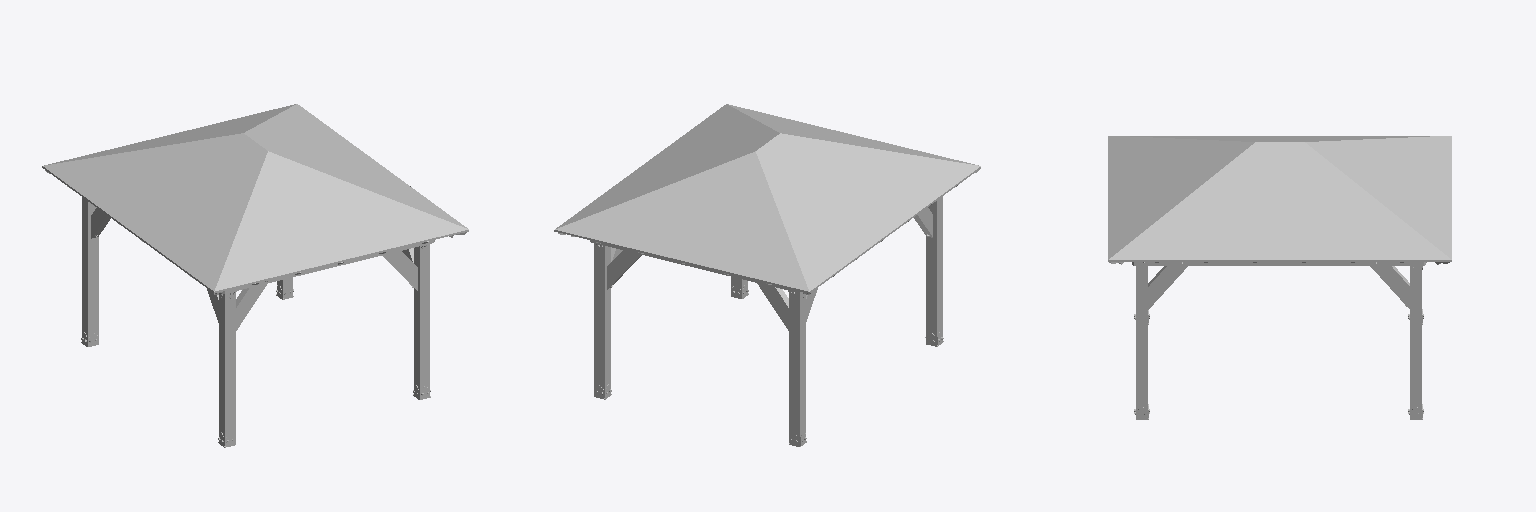
The model's file is saratoga-12x14-ogee.obj.
3 views of the same model, side by side, from view 1: azimuth 30°, elevation 25°; view 2: azimuth 150°, elevation 25°; view 3: azimuth 270°, elevation 25° (orthographic).
Parts seen in each view (by area): view 1: Mesh228 shingles roof Group1 Model, Mesh179 Group72 Component_92_4 Group1 Model, Mesh81 Group44 Component_92_2 Group1 Model, Mesh130 Group58 Component_92_3 Group1 Model, Mesh229 roof Group1 Model, Mesh121 Component_91_3 Component_92_2 Group1 Model, Mesh219 Component_91_7 Component_92_4 Group1 Model, Mesh77 Component_135_1 Group1 Model; view 2: Mesh228 shingles roof Group1 Model, Mesh130 Group58 Component_92_3 Group1 Model, Mesh1 Group3 Component_92_1 Group2 Group1 Model, Mesh179 Group72 Component_92_4 Group1 Model, Mesh229 roof Group1 Model, Mesh170 Component_91_5 Component_92_3 Group1 Model, Mesh41 Component_91_1 Component_92_1 Group2 Group1 Model; view 3: Mesh228 shingles roof Group1 Model, Mesh81 Group44 Component_92_2 Group1 Model, Mesh1 Group3 Component_92_1 Group2 Group1 Model, Mesh80 Component_134_2 Group1 Model, Mesh125 Component_91_4 Component_92_2 Group1 Model, Mesh45 Component_91_2 Component_92_1 Group2 Group1 Model, Mesh229 roof Group1 Model.
Part boxes in pixels (x1,y1,x2,y2): Mesh228 shingles roof Group1 Model: (43, 104, 468, 291); Mesh179 Group72 Component_92_4 Group1 Model: (219, 292, 235, 445); Mesh81 Group44 Component_92_2 Group1 Model: (414, 244, 429, 398); Mesh130 Group58 Component_92_3 Group1 Model: (82, 197, 98, 345); Mesh229 roof Group1 Model: (42, 166, 468, 293); Mesh121 Component_91_3 Component_92_2 Group1 Model: (382, 251, 417, 290); Mesh219 Component_91_7 Component_92_4 Group1 Model: (236, 284, 266, 330); Mesh77 Component_135_1 Group1 Model: (222, 240, 434, 293); Mesh228 shingles roof Group1 Model: (555, 104, 980, 291); Mesh130 Group58 Component_92_3 Group1 Model: (789, 292, 805, 445); Mesh1 Group3 Component_92_1 Group2 Group1 Model: (594, 243, 610, 397); Mesh179 Group72 Component_92_4 Group1 Model: (926, 196, 942, 345); Mesh229 roof Group1 Model: (554, 167, 980, 293); Mesh170 Component_91_5 Component_92_3 Group1 Model: (757, 283, 788, 330); Mesh41 Component_91_1 Component_92_1 Group2 Group1 Model: (607, 250, 641, 289); Mesh228 shingles roof Group1 Model: (1108, 136, 1451, 259); Mesh81 Group44 Component_92_2 Group1 Model: (1136, 266, 1147, 418); Mesh1 Group3 Component_92_1 Group2 Group1 Model: (1410, 266, 1421, 418); Mesh80 Component_134_2 Group1 Model: (1140, 262, 1410, 265); Mesh125 Component_91_4 Component_92_2 Group1 Model: (1148, 266, 1187, 309); Mesh45 Component_91_2 Component_92_1 Group2 Group1 Model: (1370, 266, 1409, 308); Mesh229 roof Group1 Model: (1108, 260, 1451, 261).
Bounding box in the file's own units: 144 × 123 × 168.